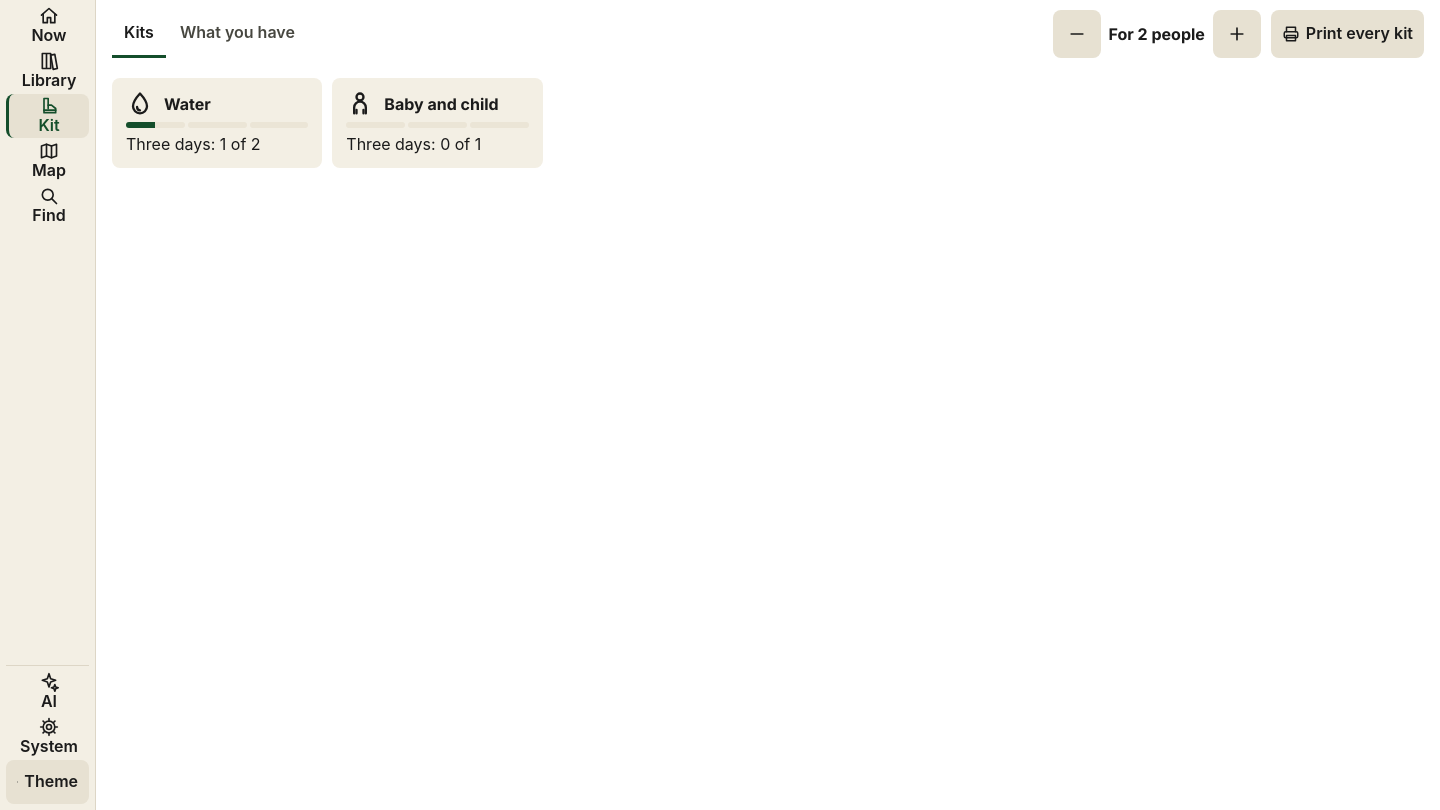
Test: Kits › says so when the count cannot be saved, and keeps the number the box last gave
Click the button named "More" at x=1237, y=34, box [1213, 10, 1261, 58]
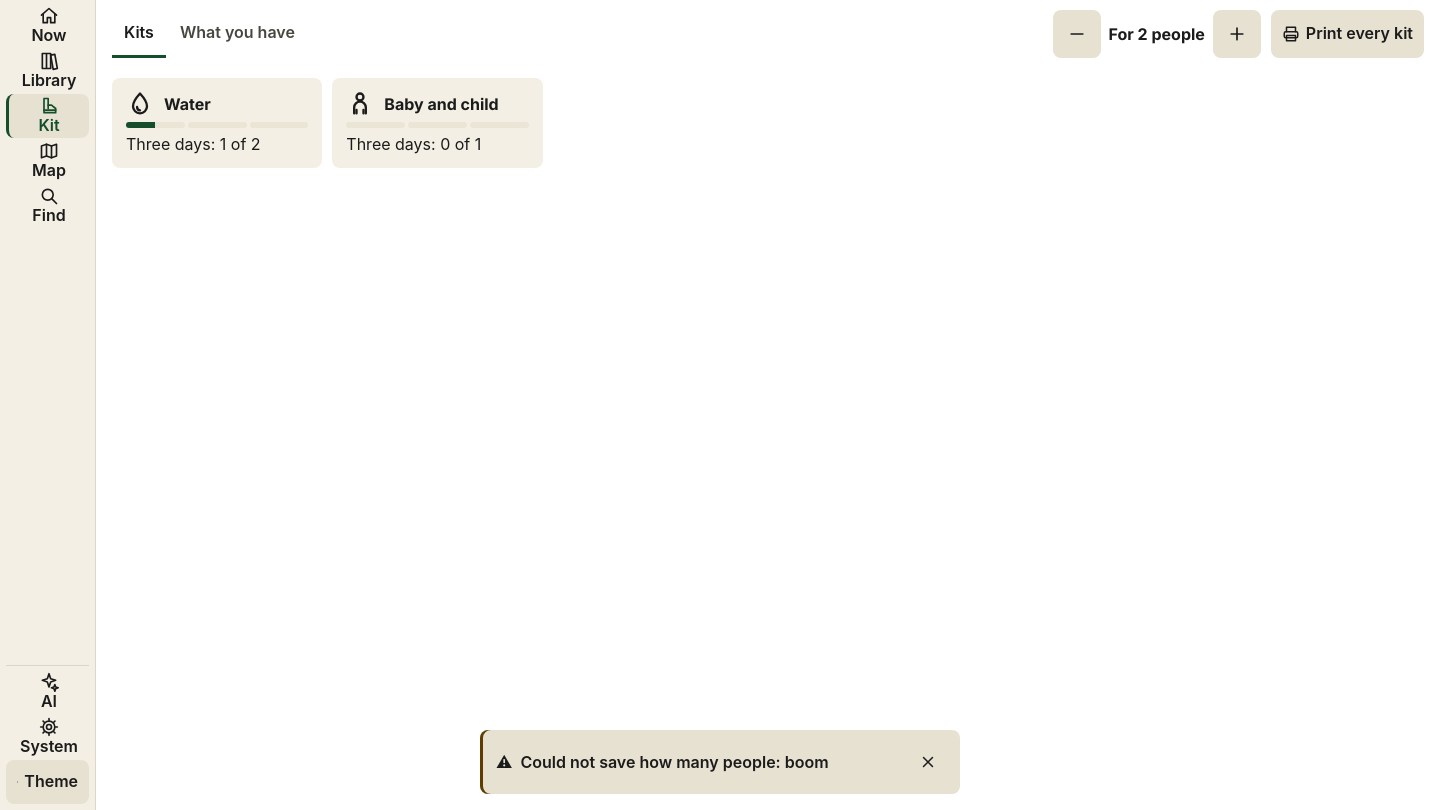
Expected: the text "For 2 people" is shown, [1109, 22, 1205, 46]
Expected: the text "Could not save how many people: boom" is shown, [520, 752, 829, 772]
